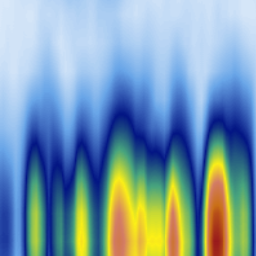defect: (100, 101, 165, 256), (199, 109, 231, 256), (165, 117, 198, 256), (69, 131, 98, 256), (231, 110, 253, 256), (23, 132, 47, 256), (50, 144, 66, 256), (1, 198, 10, 256)
